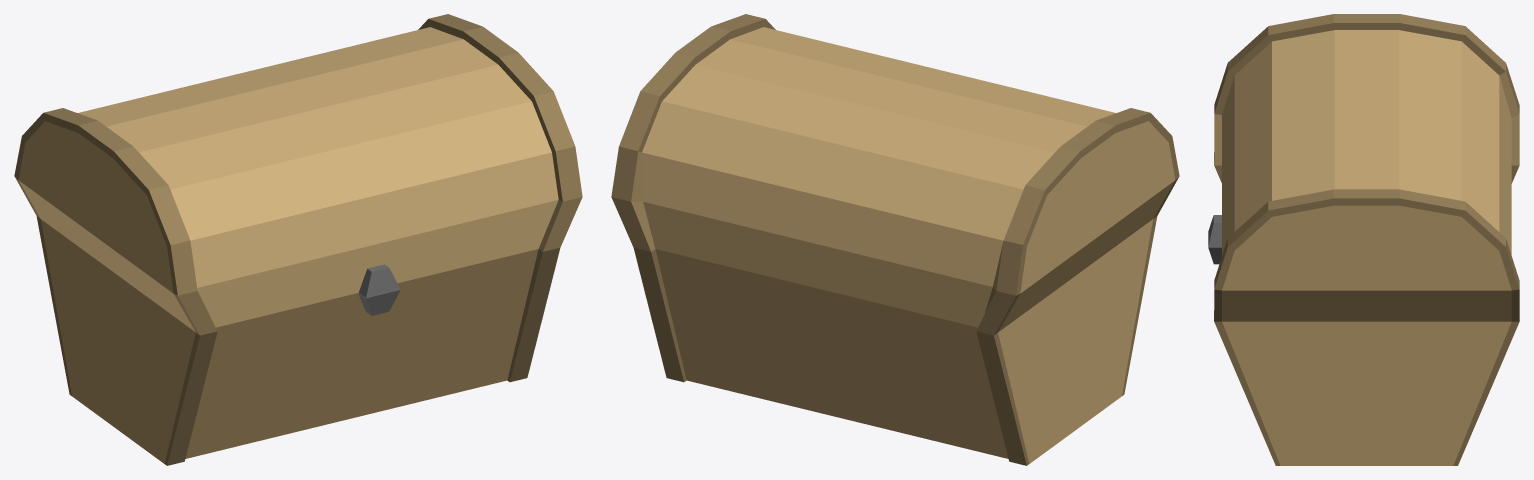
File: Chest_2_7.fbx
3 renders of one model, left to right at view 1: azimuth 30°, elevation 25°; view 2: azimuth 150°, elevation 25°; view 3: azimuth 270°, elevation 25°, orthographic. The views are drawn at different scales.
Visible parts, largest first — view 1: Chest, Chest_2_7; view 2: Chest, Chest_2_7; view 3: Chest, Chest_2_7.
Boxes of the visible parts, left/top/right/bottom form: Chest: left=14, top=14, right=582, bottom=335; Chest_2_7: left=36, top=216, right=560, bottom=465; Chest: left=611, top=14, right=1179, bottom=335; Chest_2_7: left=633, top=216, right=1157, bottom=465; Chest: left=1208, top=14, right=1519, bottom=321; Chest_2_7: left=1208, top=165, right=1519, bottom=465.
Bounding box in the file's own units: 46.32 × 32.51 × 33.04.
